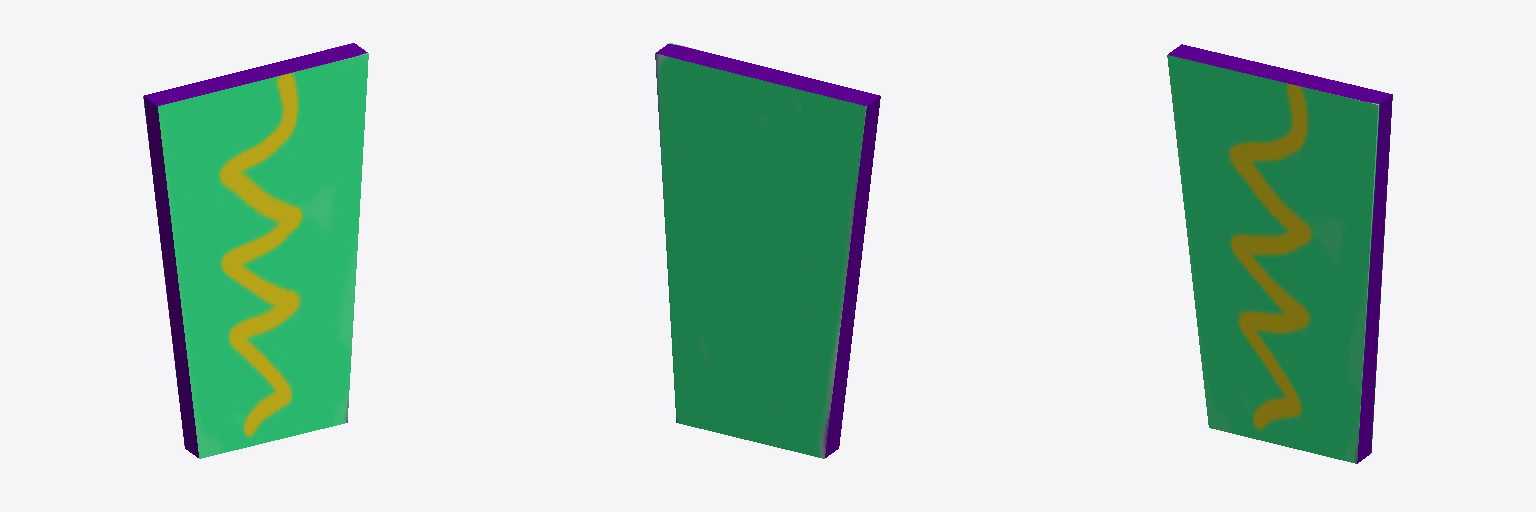
The picture shows the model from 3 angles: view 1: azimuth 30°, elevation 25°; view 2: azimuth 150°, elevation 25°; view 3: azimuth 330°, elevation 25°; orthographic projection.
Visible parts, largest first — view 1: Cube; view 2: Cube; view 3: Cube.
Boxes of the visible parts, <box> form: Cube: <box>143,43,368,458</box>; Cube: <box>655,43,880,458</box>; Cube: <box>1167,44,1392,463</box>.
Size of the model in its own units: 1.31 by 2.15 by 0.1559.
1 materials, 1 textured.